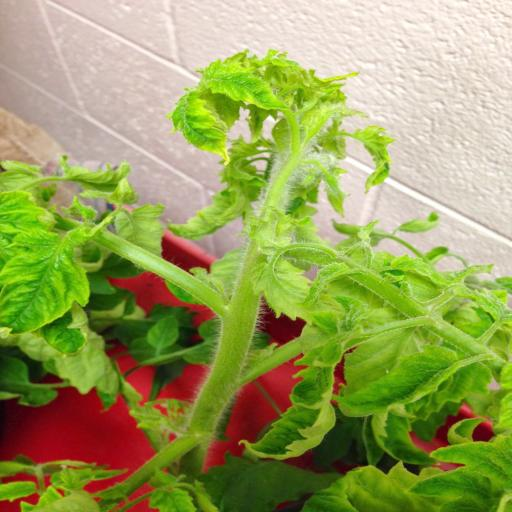disease_tomato: (1, 219, 101, 337), (342, 342, 458, 417), (164, 90, 242, 167), (206, 52, 288, 120), (254, 250, 316, 324)
